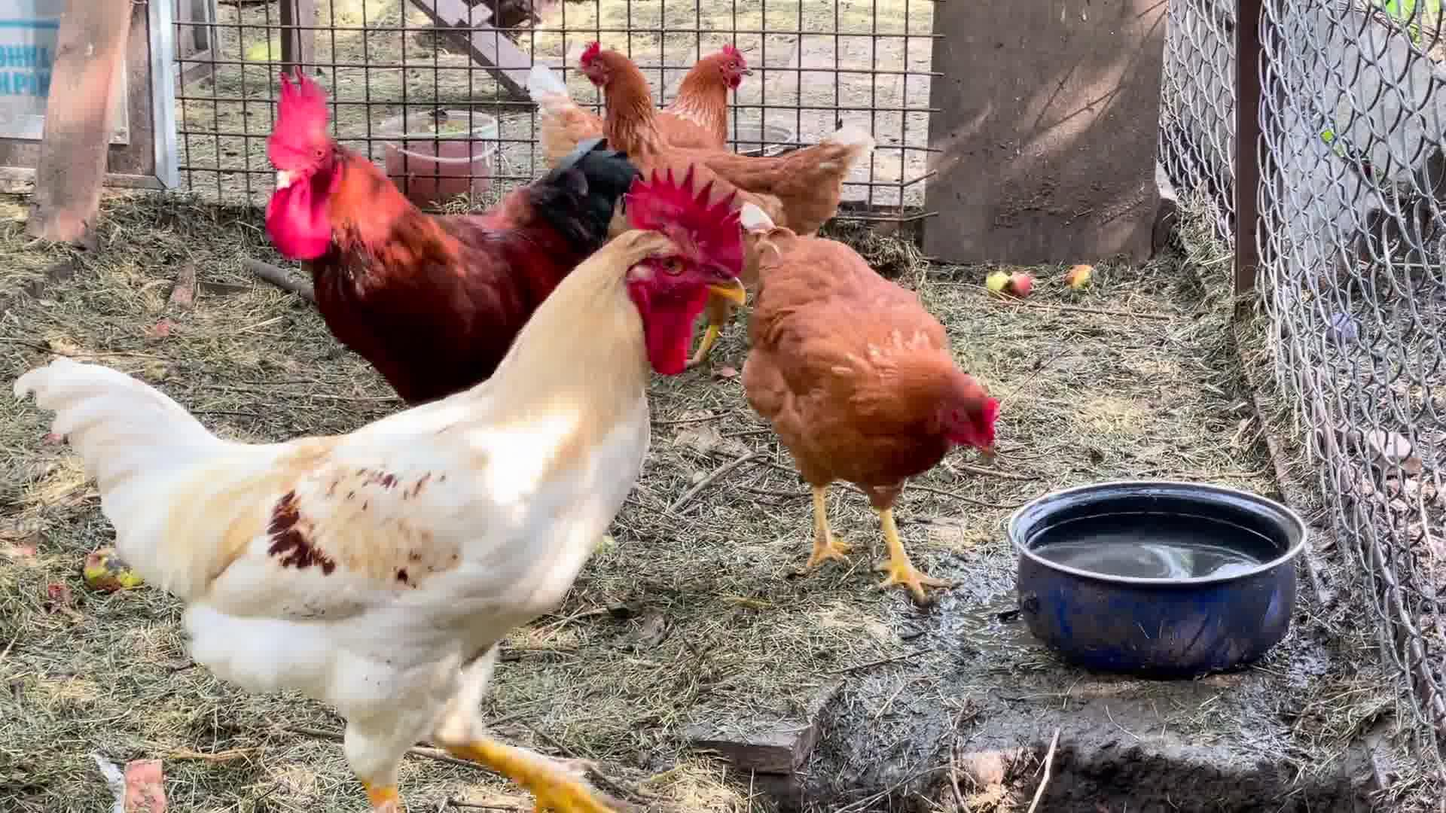Normal: (44, 164, 745, 813), (255, 74, 643, 363), (755, 232, 1007, 599), (584, 32, 869, 232), (529, 38, 747, 158)
